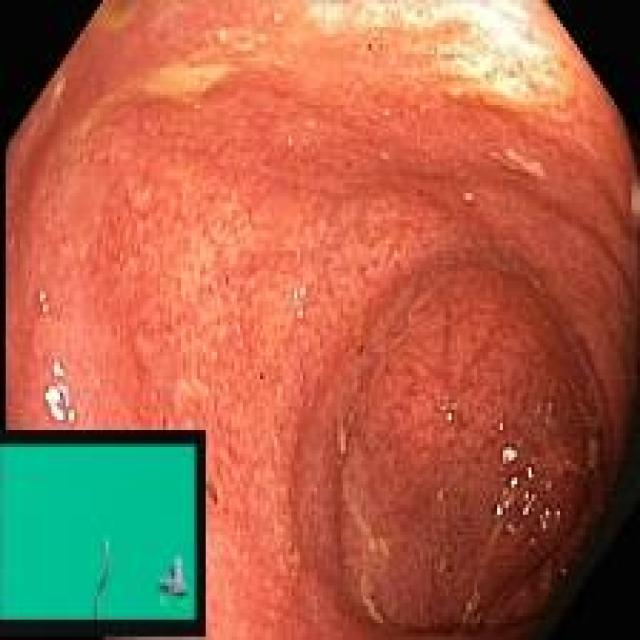ulcerative-colitis-grade-1-2: (6, 1, 640, 639)
